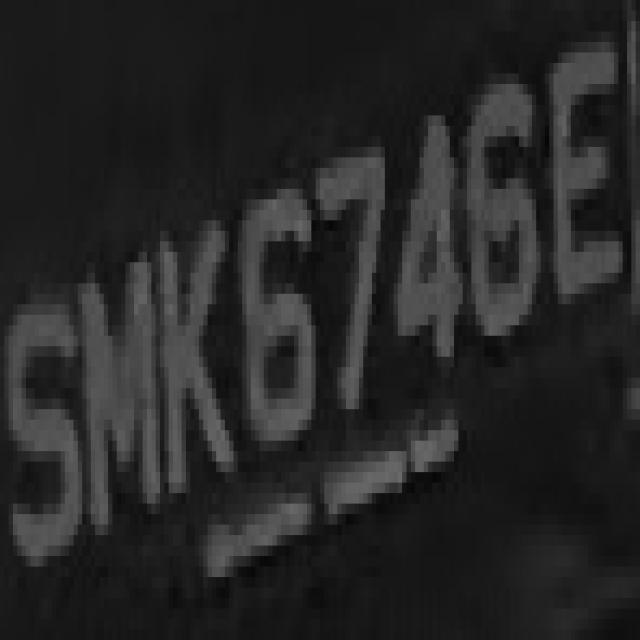4: (381, 95, 467, 430)
6: (230, 178, 312, 472), (463, 42, 536, 367)
7: (307, 105, 389, 451)
E: (549, 32, 623, 326)
K: (156, 168, 233, 514)
M: (78, 210, 160, 524)
S: (4, 262, 78, 588)
